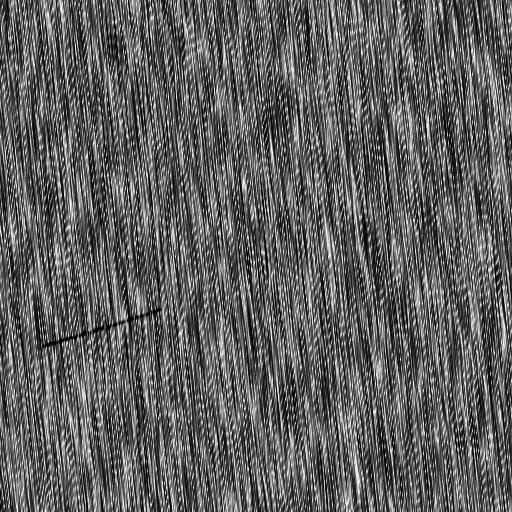scratch: (36, 304, 169, 353)
